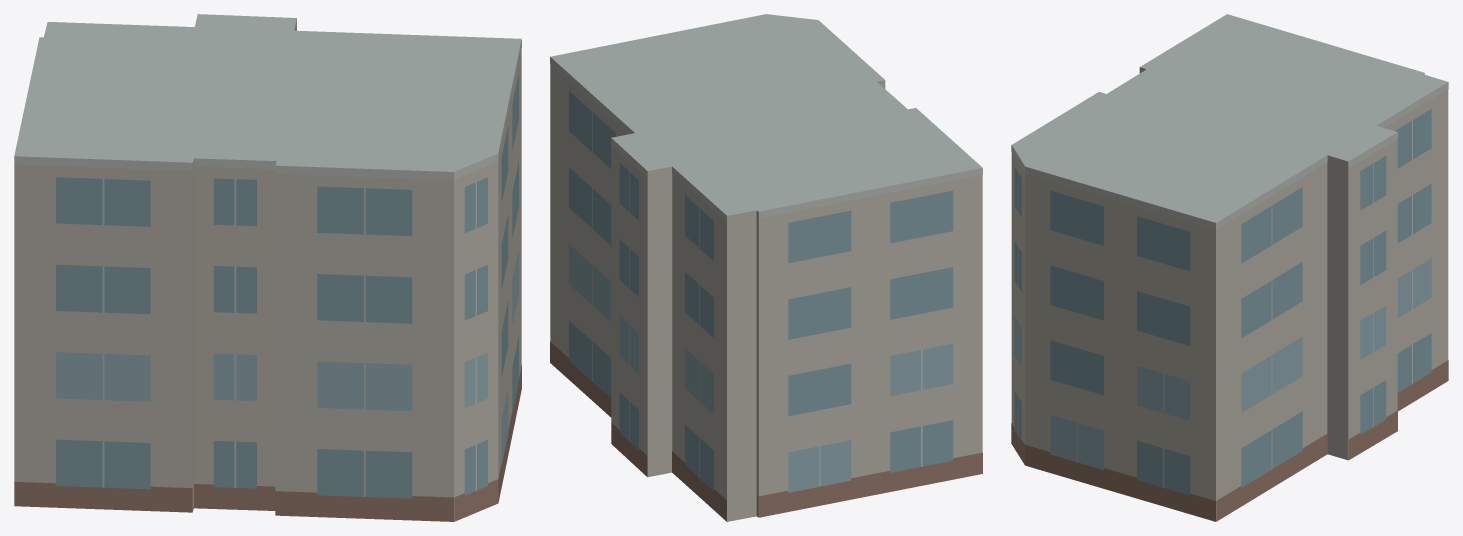
File: survey-upis-32725094.glb
The picture shows the model from 3 angles, left to right: view 1: azimuth 30°, elevation 25°; view 2: azimuth 150°, elevation 25°; view 3: azimuth 270°, elevation 25°; orthographic projection. The views are drawn at different scales.
Parts seen in each view (by area): view 1: survey-upis-32725094.tmp; view 2: survey-upis-32725094.tmp; view 3: survey-upis-32725094.tmp.
Boxes of the visible parts, x1,y1,x2,y2 form: survey-upis-32725094.tmp: [14, 14, 521, 521]; survey-upis-32725094.tmp: [550, 14, 982, 521]; survey-upis-32725094.tmp: [1011, 14, 1448, 521].
Size of the model in its own units: 15.75 by 10.5 by 13.91.
